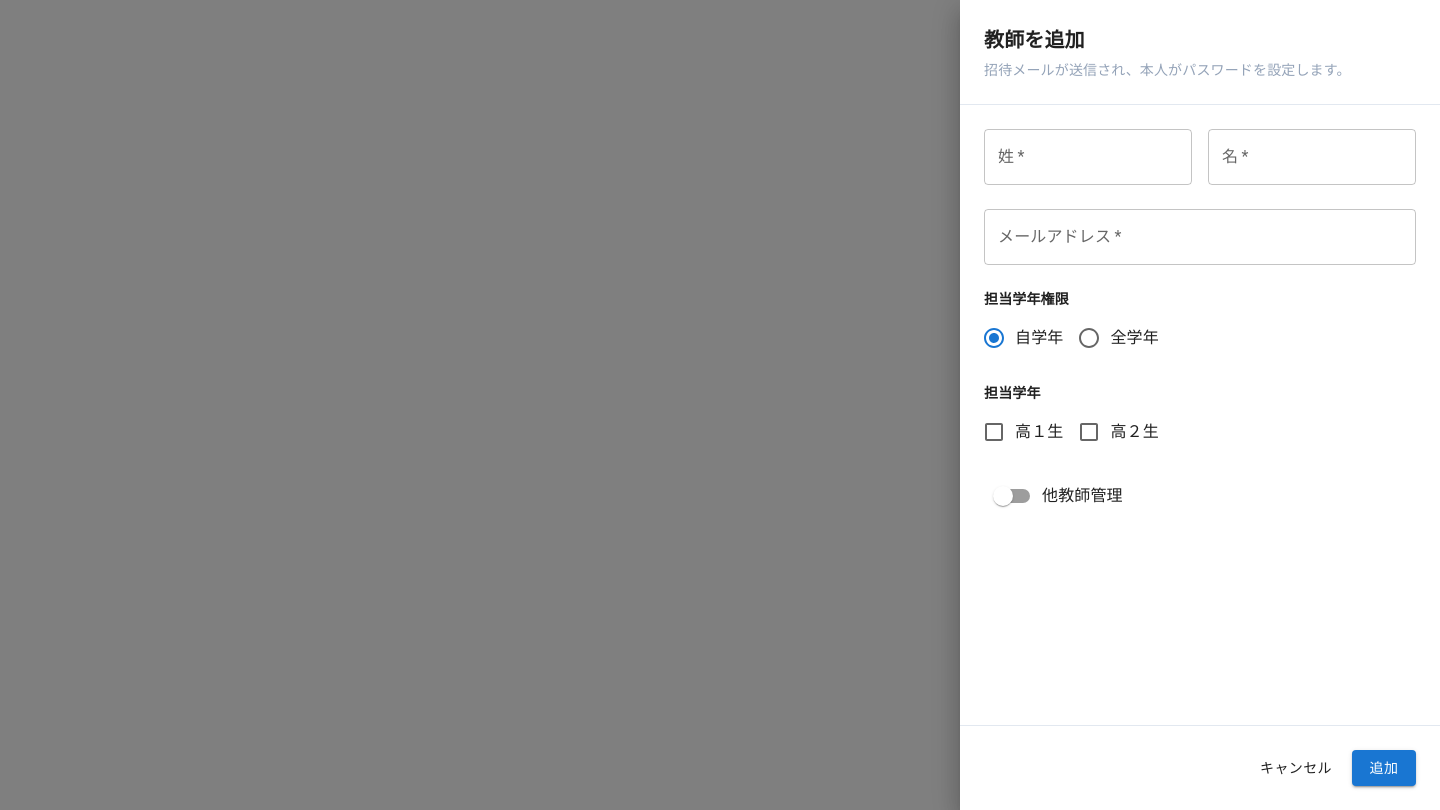
Scenario: TeacherDrawer › 新規追加モード › 担当学年権限が「全学年」のとき担当学年チェックボックスは無効化される
The image size is (1440, 810).
Click the radio button labelled "全学年". click: [1118, 338]
box: 1078,326 -> 1159,350
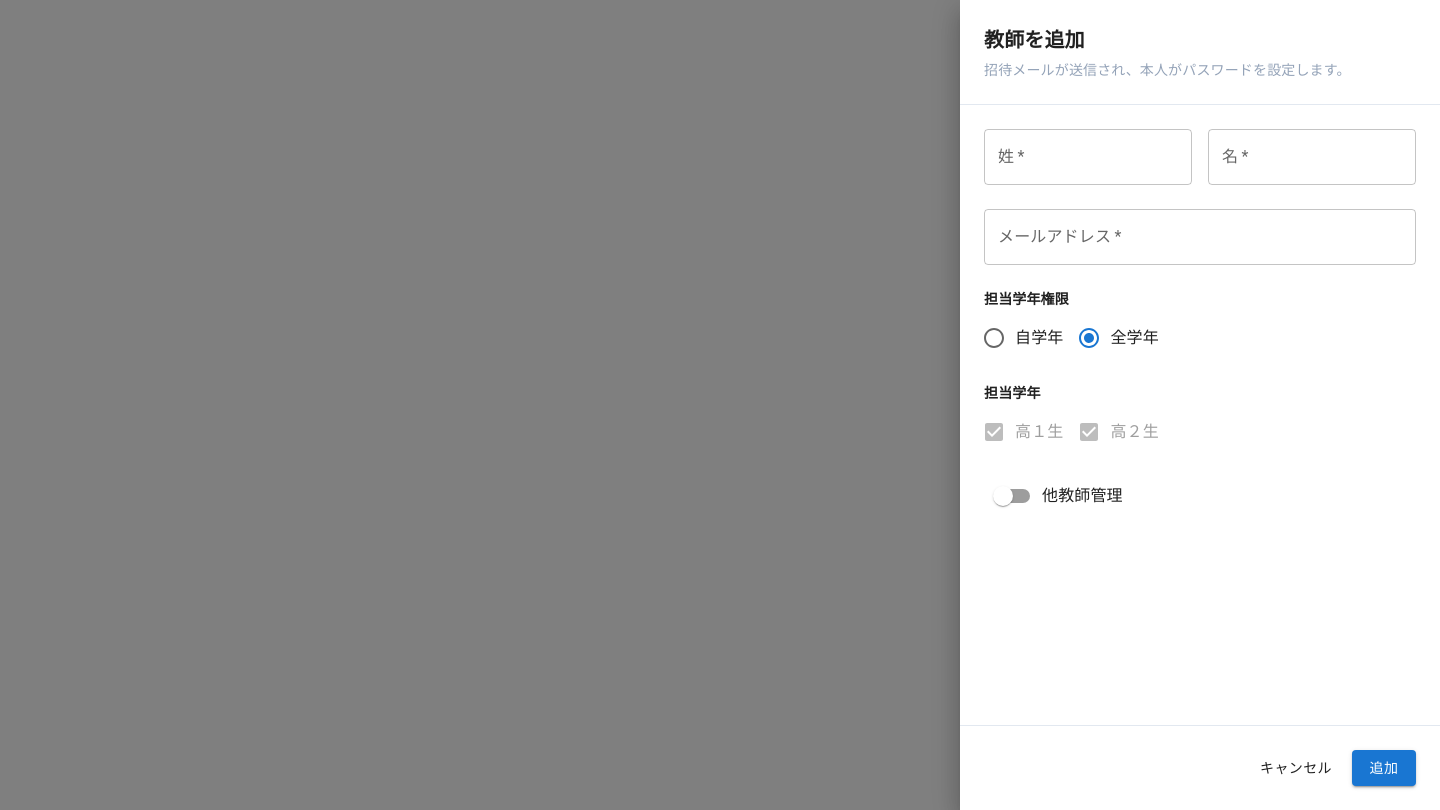
Result: the checkbox labelled "高１生" is disabled at 982,420 -> 1064,444
